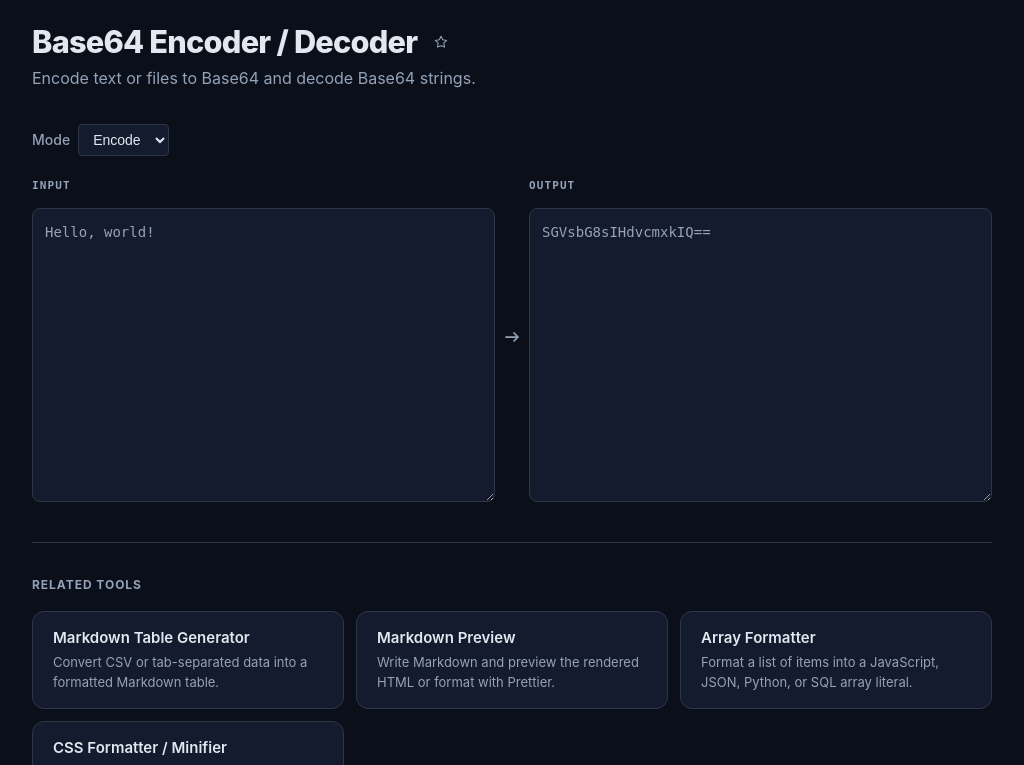
Base64 › encodes "Hello" to "SGVsbG8="
Type "Hello" into the text box named "input" at [264, 355], box left=32, top=208, right=495, bottom=502
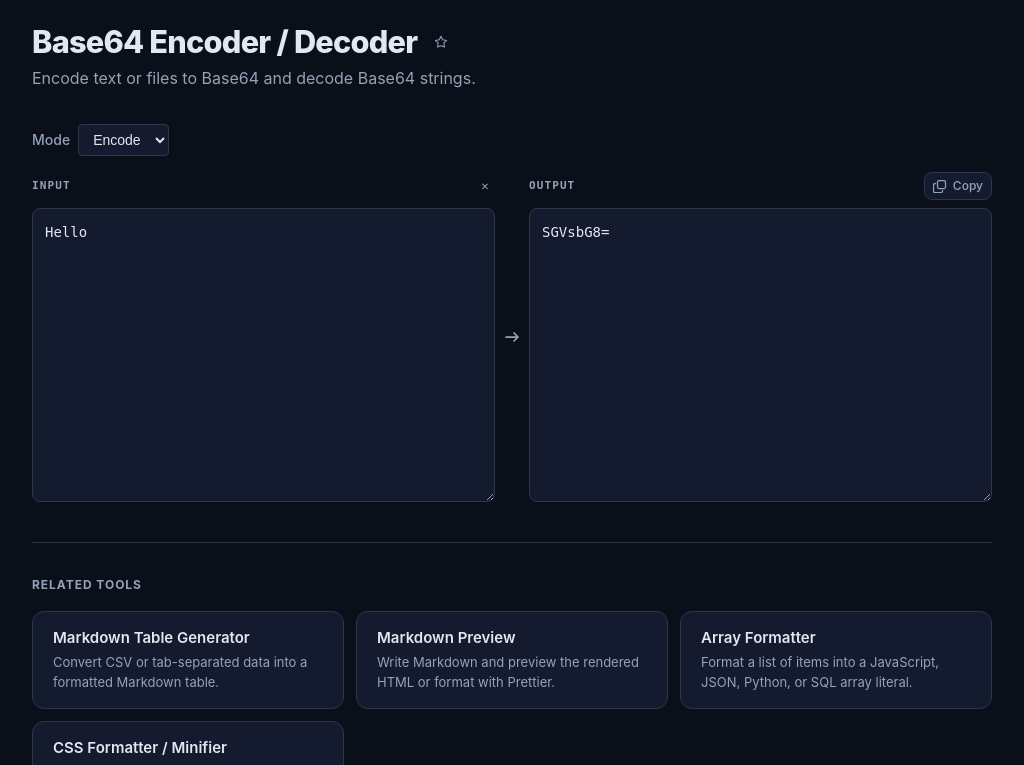
Expected: the text box named "output" holds "SGVsbG8=", left=529, top=208, right=992, bottom=502
